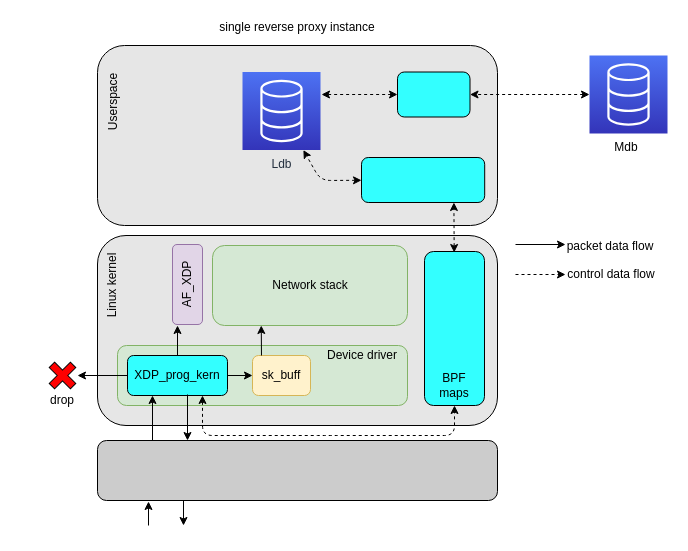
Some shapes in this 688 by 551 pixel diagram are drawn without their labels. Each missing label, with the centre of its shape:
"Network Hardware" goes at (x=297, y=470).
"sync_maps_and_Ldb" goes at (x=422, y=179).
"syncdb" goes at (x=433, y=94).
